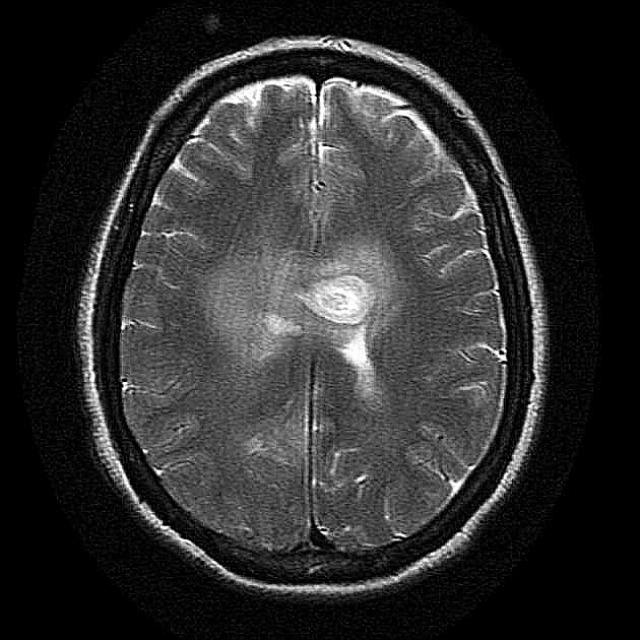Tumor-Cell: (292, 259, 370, 351)
